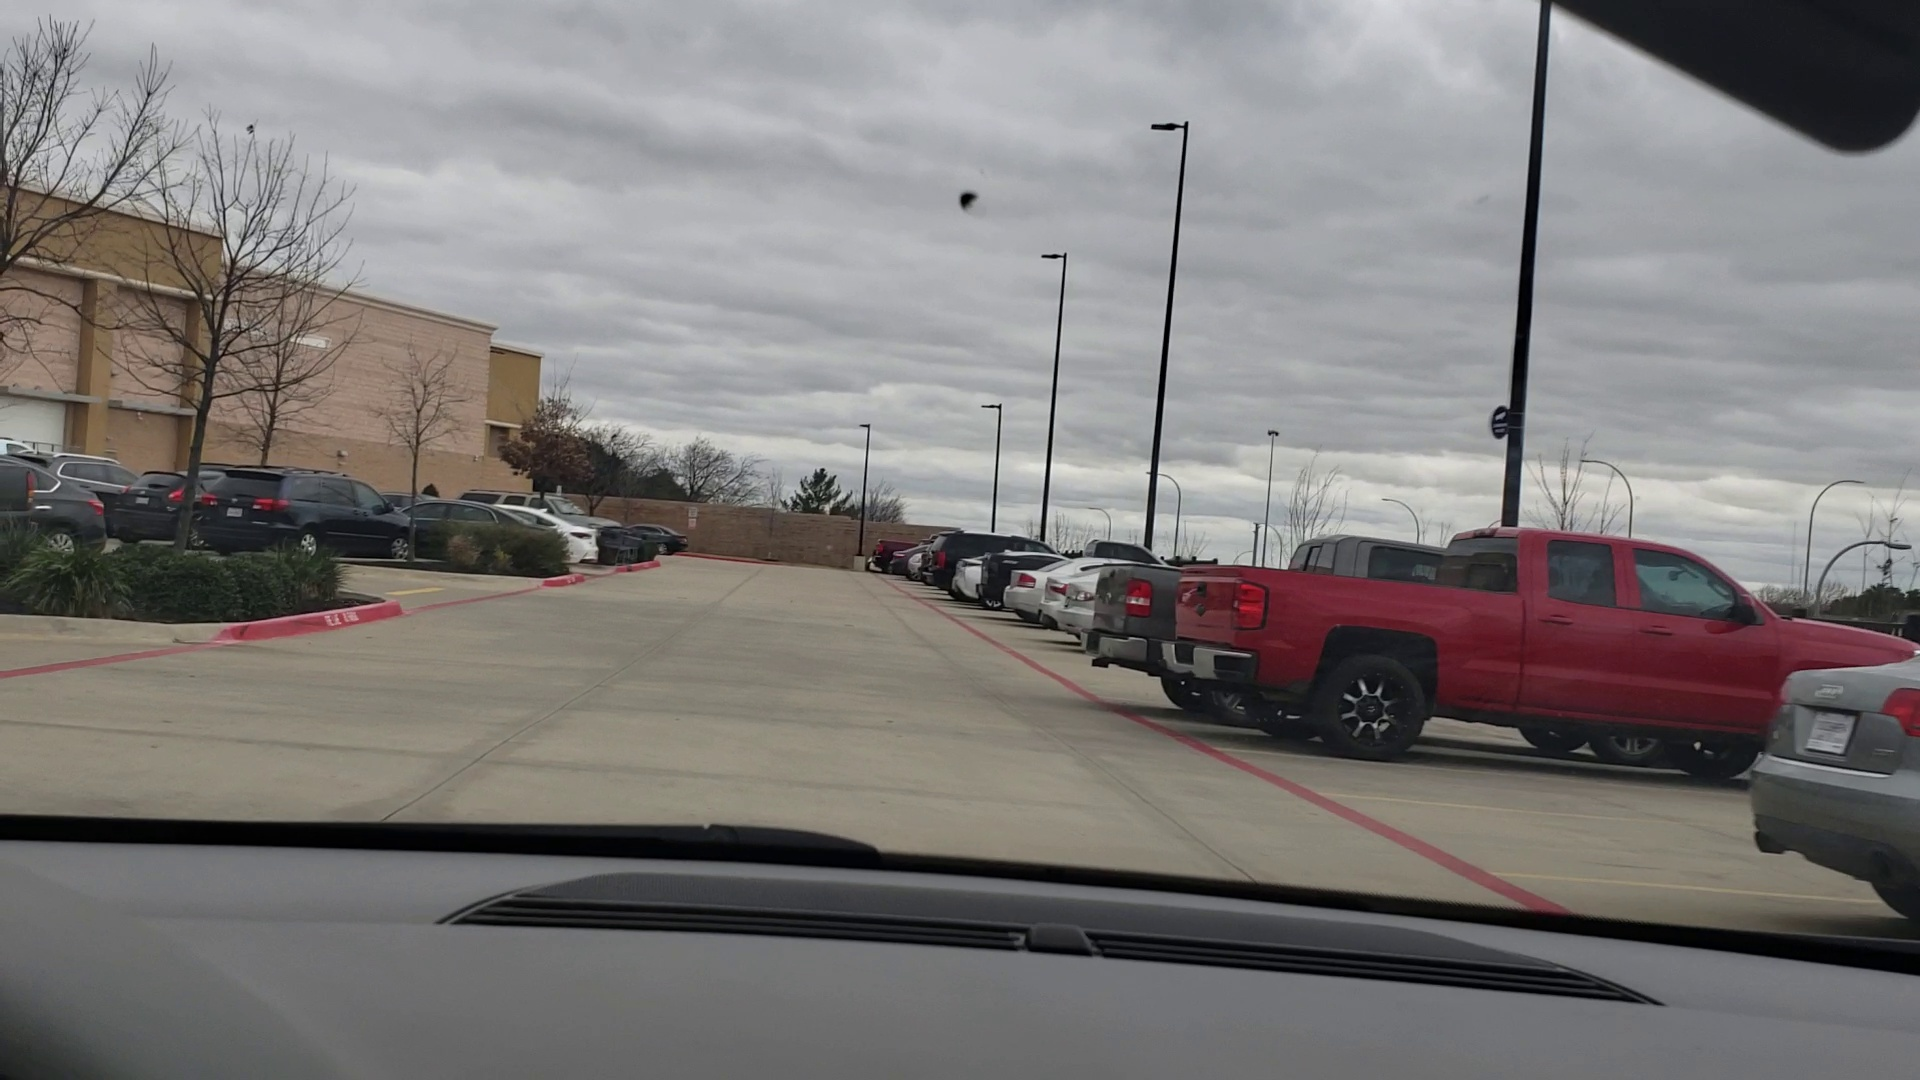car: (1749, 642, 1920, 906), (194, 458, 413, 556), (28, 446, 156, 534), (3, 455, 104, 566), (473, 491, 607, 574), (477, 483, 625, 556), (415, 491, 542, 563), (125, 463, 193, 543), (1006, 558, 1081, 624), (978, 547, 1062, 603), (932, 531, 994, 597), (1065, 567, 1113, 640), (617, 512, 682, 554), (869, 525, 935, 564), (897, 535, 936, 571)
truck: (1182, 516, 1920, 789), (1089, 516, 1470, 688)
